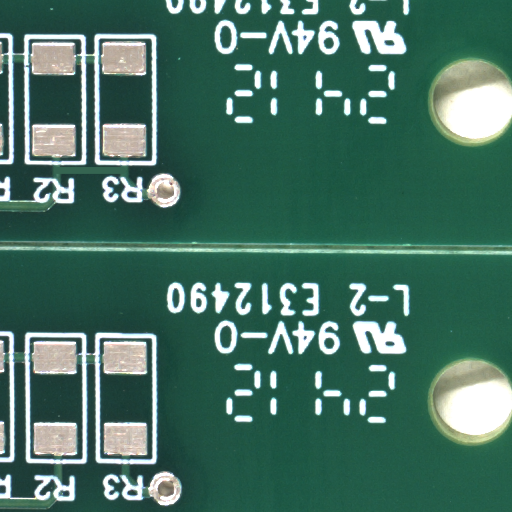Short: (90, 170, 169, 185)
